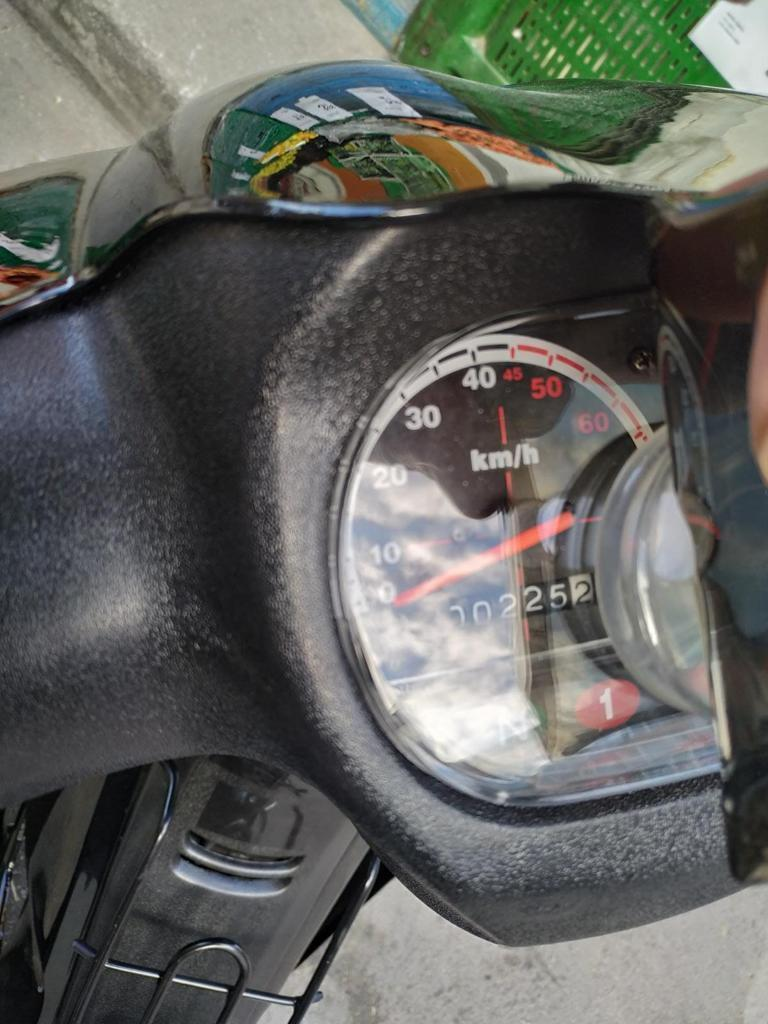0: (471, 599, 492, 627), (447, 603, 466, 631)
2: (522, 585, 544, 612), (499, 593, 517, 620), (574, 580, 591, 604)
5: (549, 583, 567, 609)
odometer: (444, 569, 599, 633)
